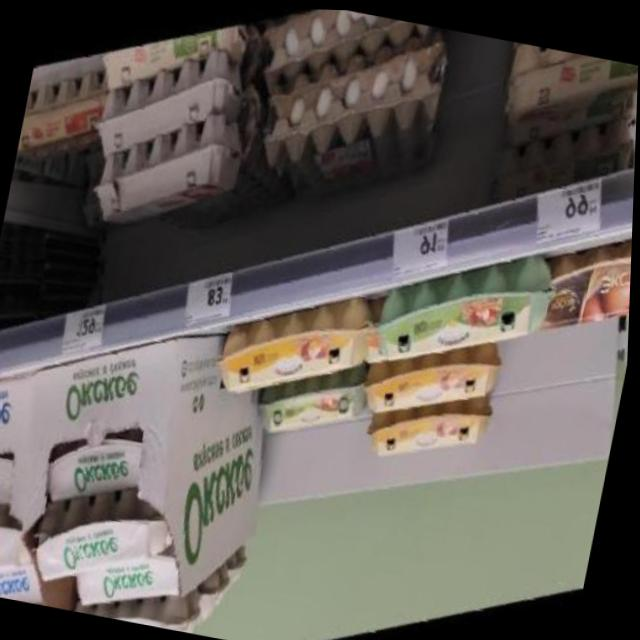Egg: (368, 211, 571, 394), (206, 264, 389, 433), (25, 461, 184, 609), (492, 72, 638, 215), (359, 311, 514, 442), (359, 364, 508, 490), (95, 2, 253, 117), (492, 38, 639, 151), (249, 342, 380, 465), (533, 206, 634, 353), (14, 57, 118, 186), (38, 411, 156, 524), (76, 527, 191, 629), (66, 560, 206, 633), (320, 7, 492, 52), (0, 493, 42, 594), (0, 538, 54, 605), (0, 440, 27, 521)
